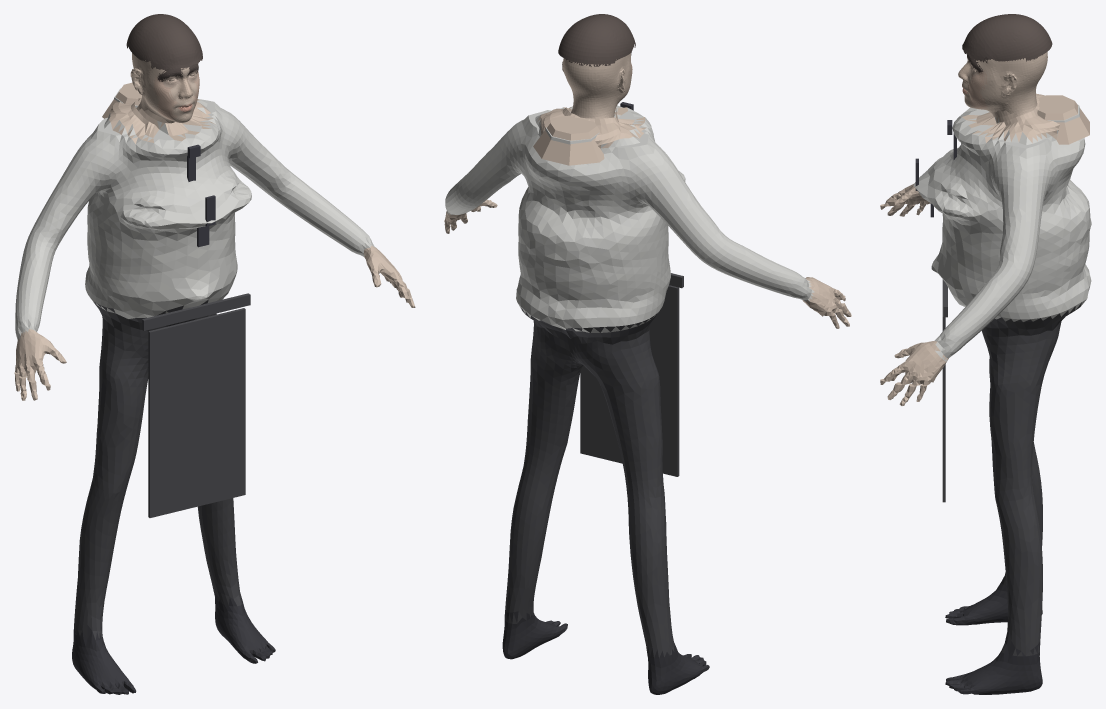
The model's file is john_frank_gnm.glb.
3 renders of one model, left to right at view 1: azimuth 30°, elevation 25°; view 2: azimuth 150°, elevation 25°; view 3: azimuth 270°, elevation 25°, orthographic.
Visible parts, largest first — view 1: john_frank_portrait; view 2: john_frank_portrait; view 3: john_frank_portrait.
Part boxes in pixels (x1,y1,x2,y2): john_frank_portrait: [14, 14, 415, 694]; john_frank_portrait: [444, 14, 851, 694]; john_frank_portrait: [880, 14, 1091, 694].
Size of the model in its own units: 1.1 by 1.72 by 0.5176.
